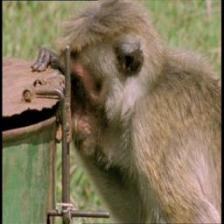monkey: (46, 4, 158, 164)
